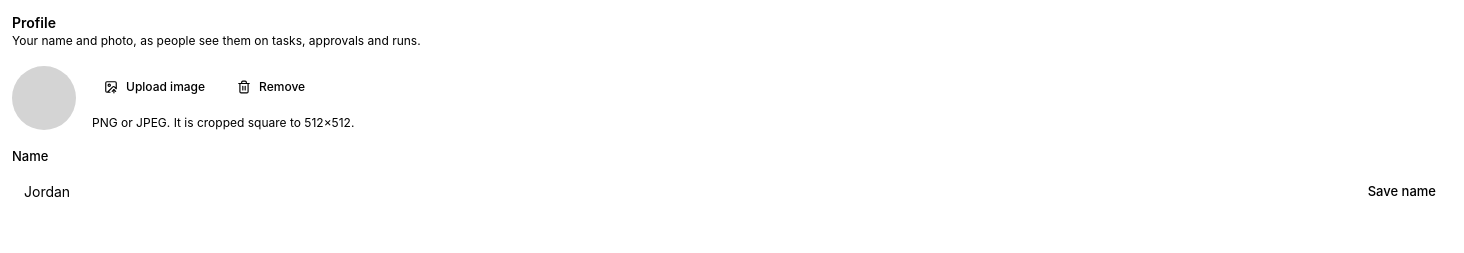
it: names › renames you from the profile
This screenshot has width=1464, height=253.
Replace the text in the field labelled "Name" with "Jordan Lee" at point(678, 192), box [12,170,1344,214]
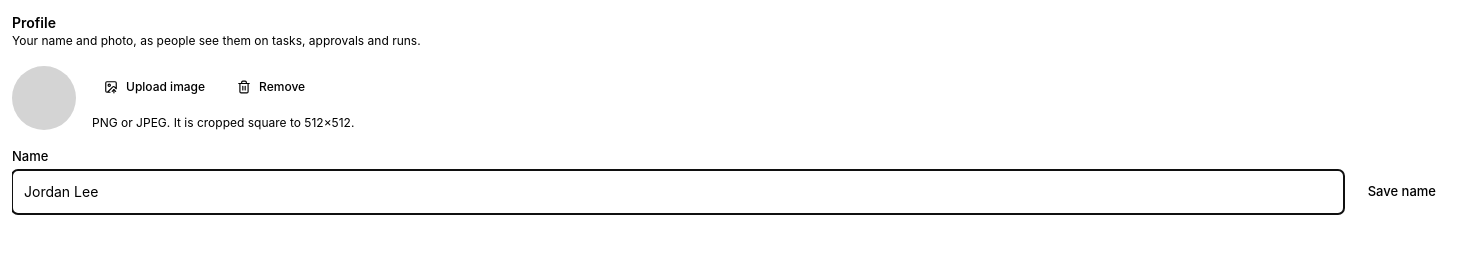
Click the button "Save name" at point(1402, 192), box [1352,170,1452,214]
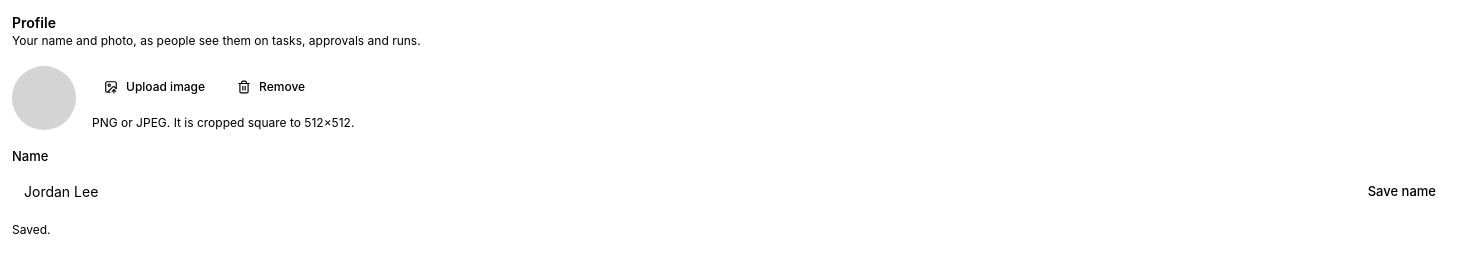
Now the text "Saved." is shown, box [12,222,51,237]
